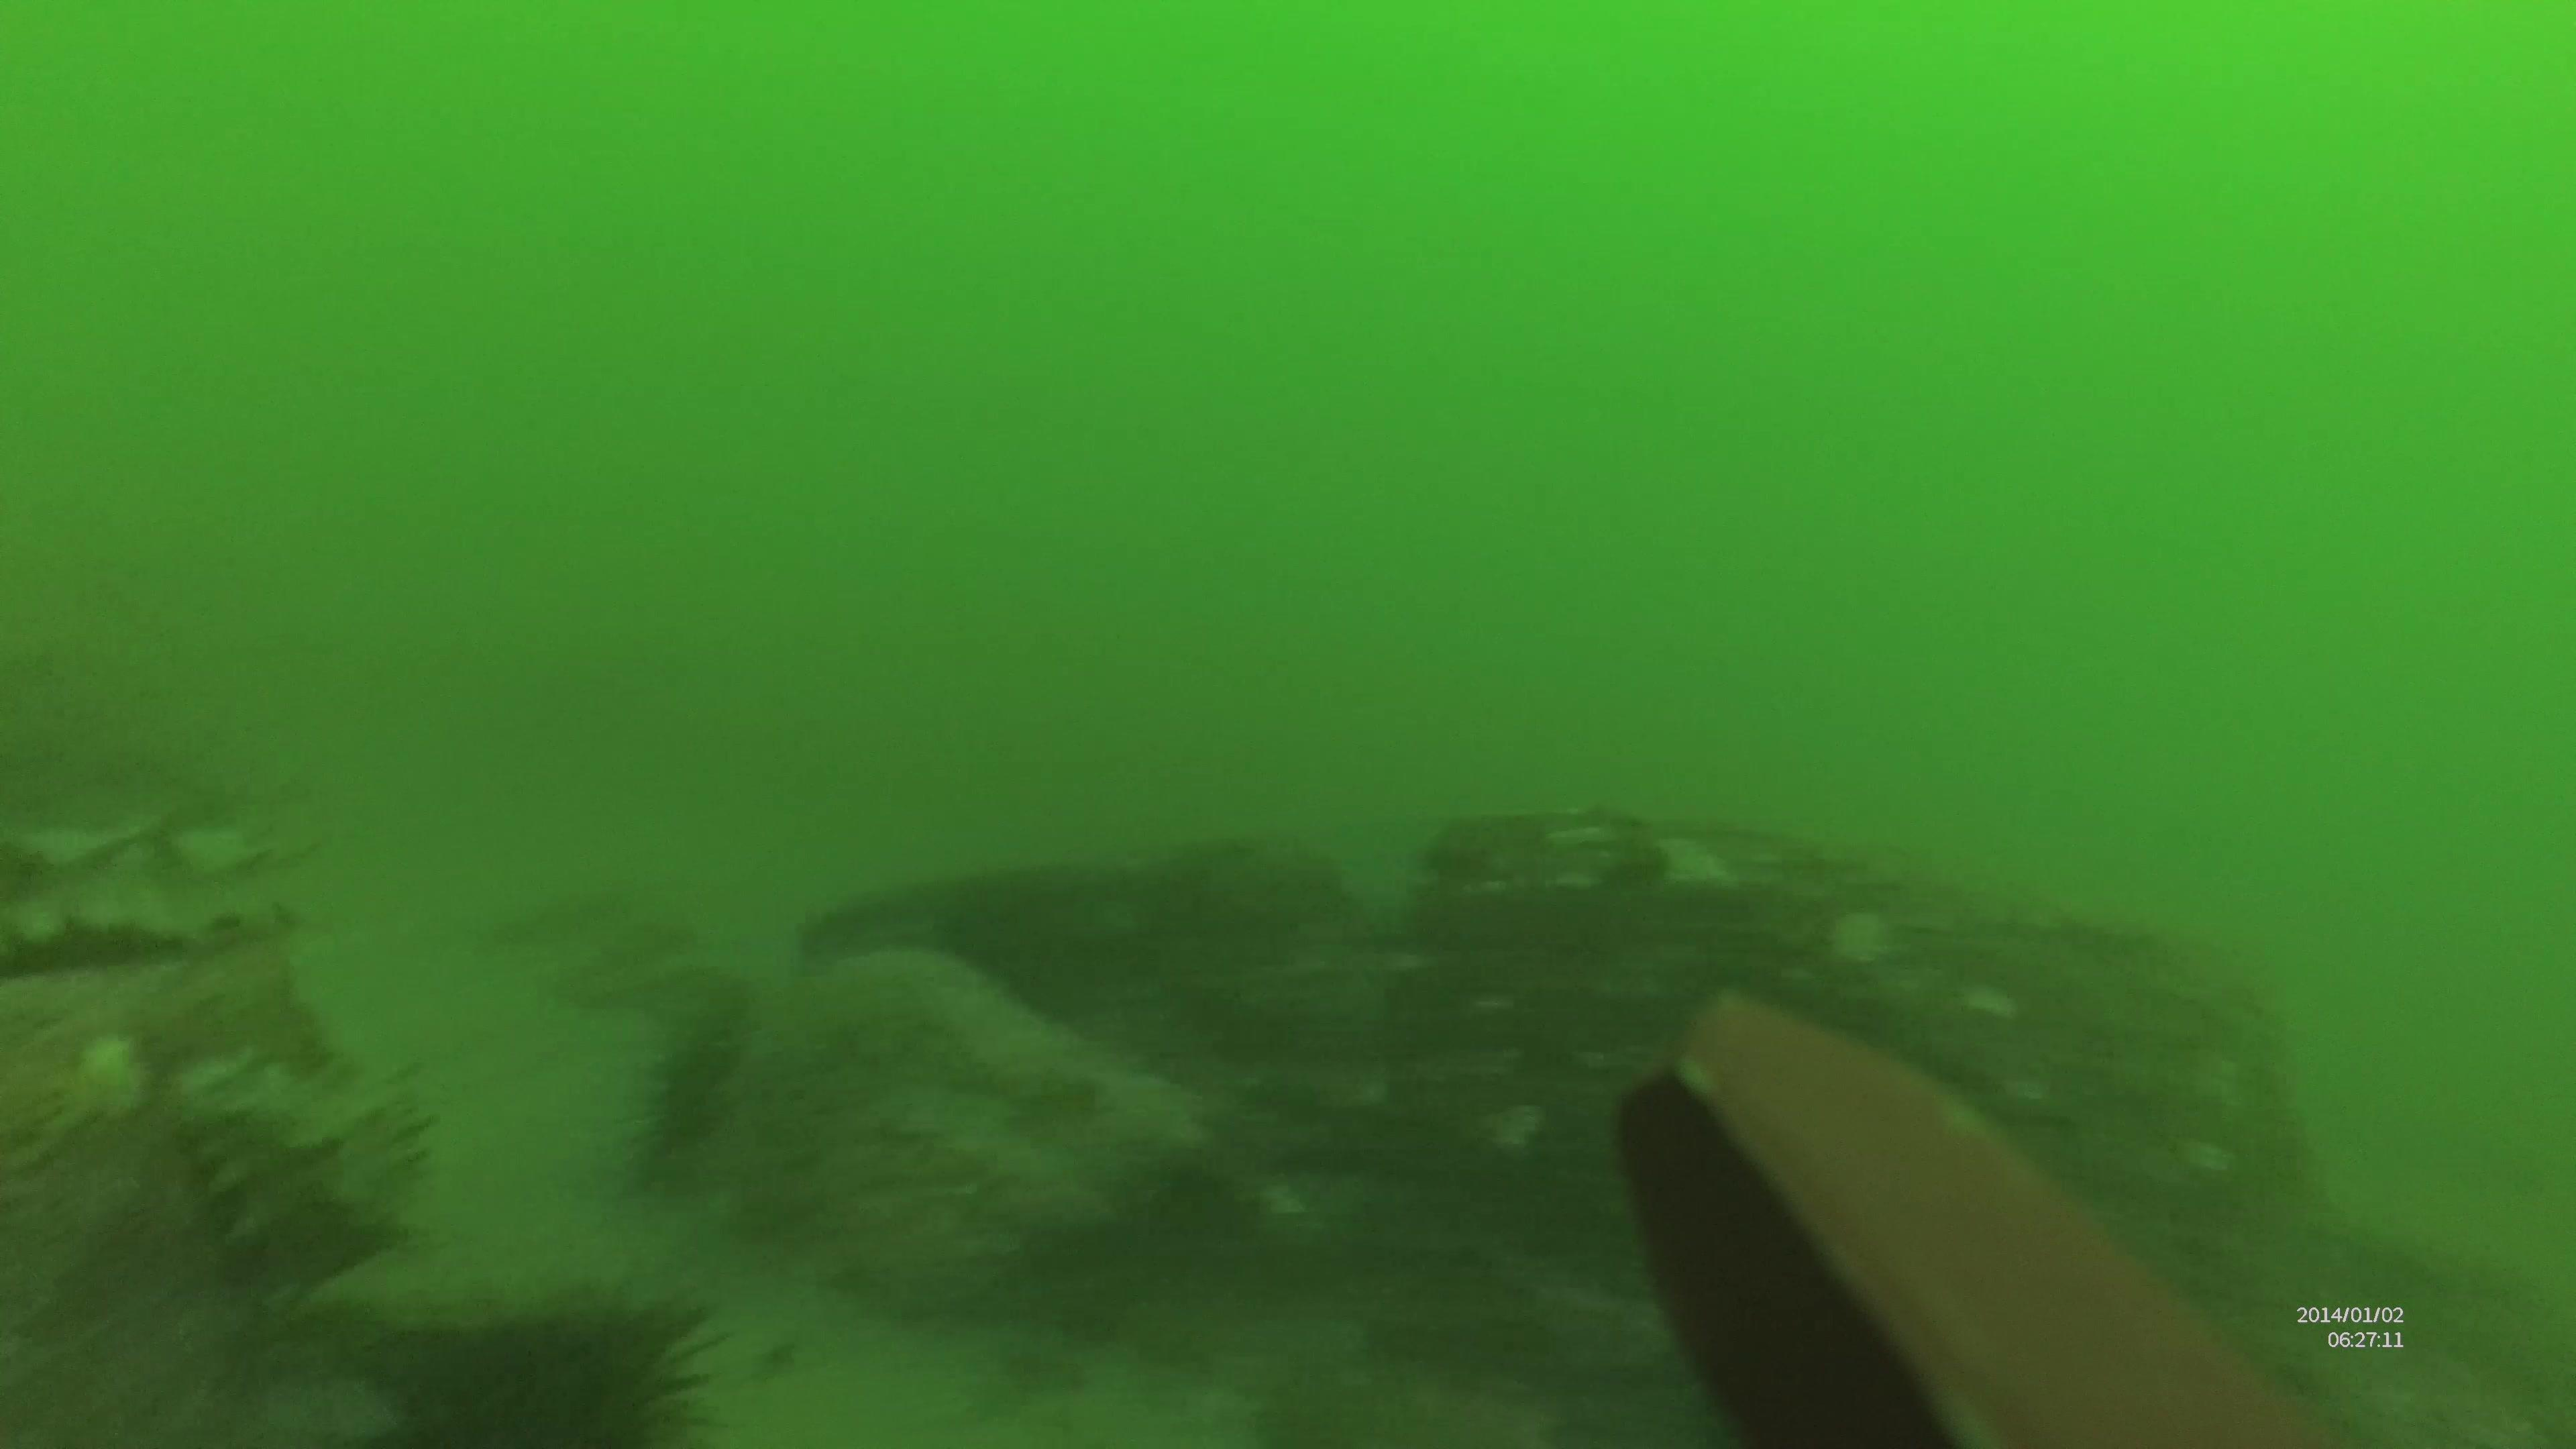echinus: (372, 1276, 741, 1449), (609, 1014, 782, 1180)
holothurian: (156, 1062, 409, 1283)
